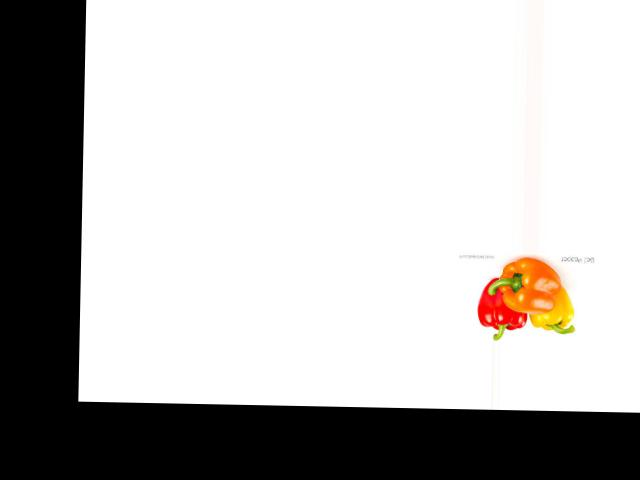bell_pepper: (527, 283, 578, 337)
